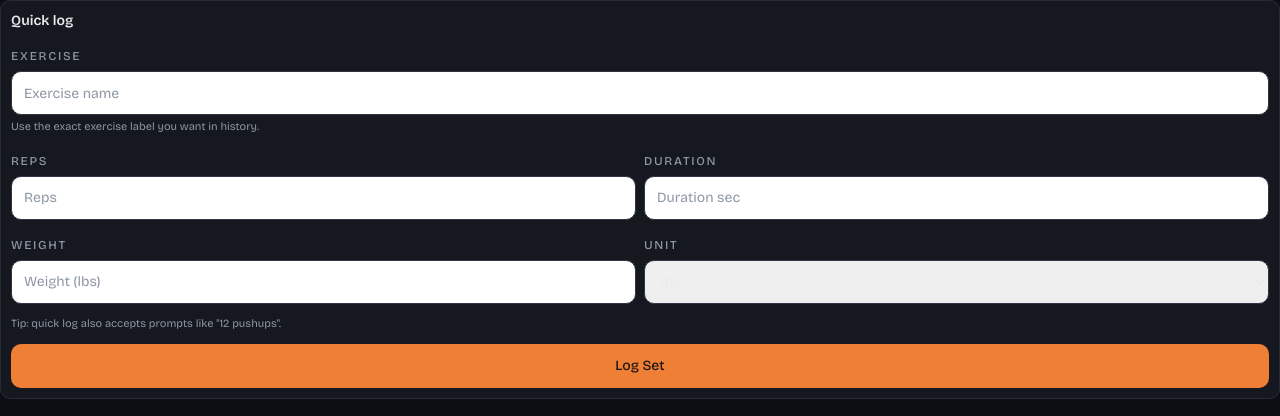
Scenario: QuickLogFormBlock › shows validation error for non-numeric reps
Type "Curl" into the field labelled "Exercise". click: point(640, 93)
box: [11,71,1269,115]
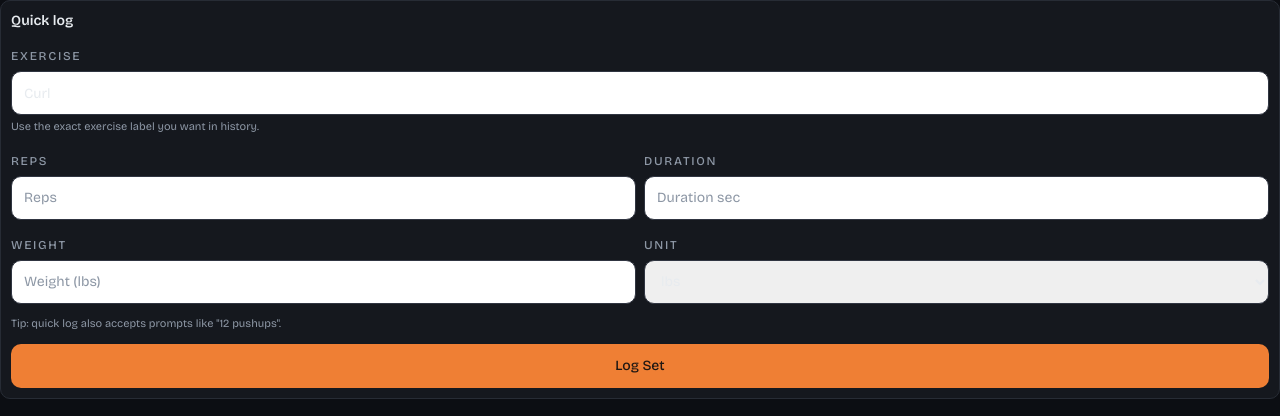
Type "10.5" into the field labelled "Reps". click: point(324, 198)
box: [11,176,636,220]
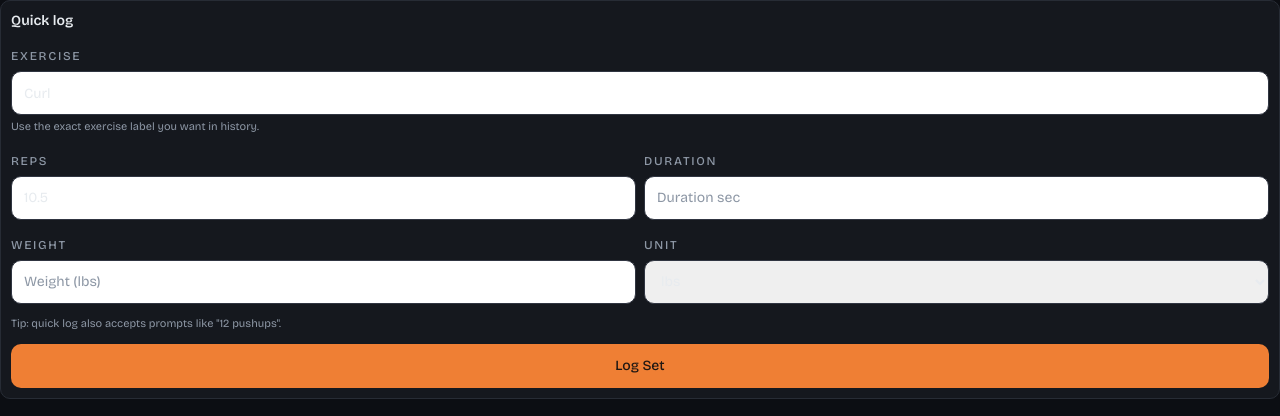
Click the button "Log Set". click: point(640, 366)
box: [11,344,1269,388]
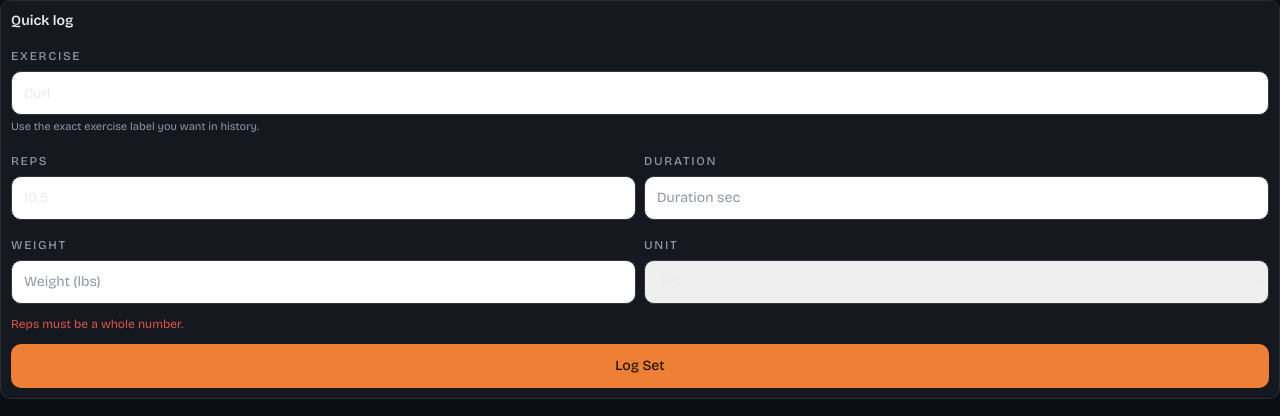
Expected: the text "Reps must be a whole number." is shown, [11,316,183,330]
